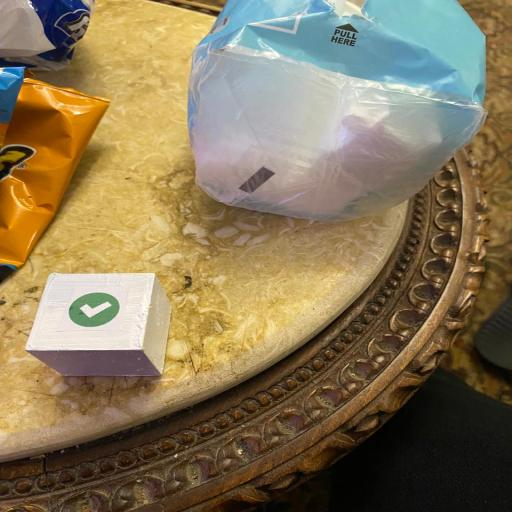Confirm: (25, 272, 173, 378)
